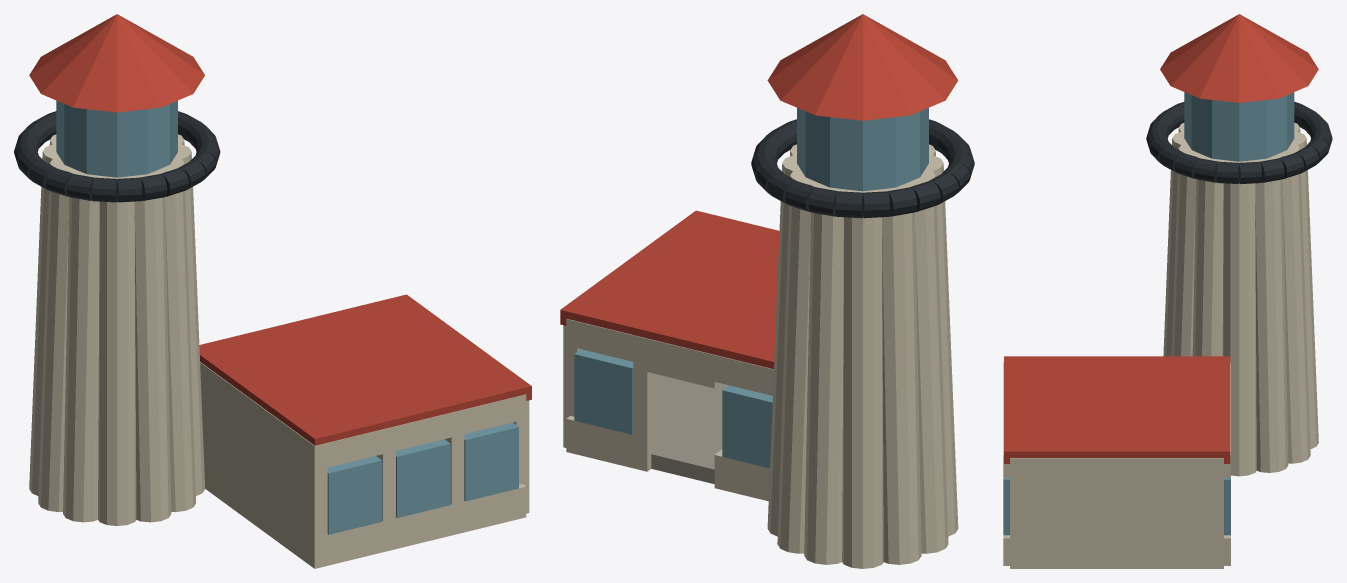
File: discovery-light.glb
3 renders of one model, left to right at view 1: azimuth 30°, elevation 25°; view 2: azimuth 150°, elevation 25°; view 3: azimuth 270°, elevation 25°, orthographic. The views are drawn at different scales.
Parts seen in each view (by area): view 1: discovery-light; view 2: discovery-light; view 3: discovery-light.
Part boxes in pixels (x1,y1,x2,y2): discovery-light: (14,14,531,568); discovery-light: (560,14,974,568); discovery-light: (1003,14,1332,568).
Size of the model in its own units: 12.77 by 15.52 by 10.77.
